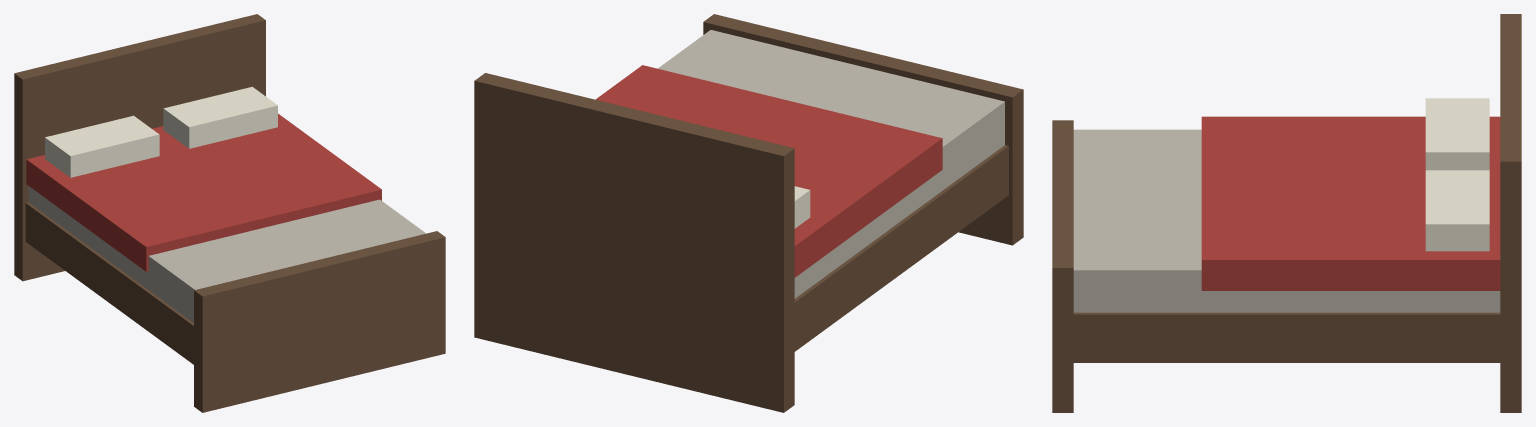
File: bed_old.glb
3 views of the same model, side by side, from view 1: azimuth 30°, elevation 25°; view 2: azimuth 150°, elevation 25°; view 3: azimuth 270°, elevation 25° (orthographic). The views are drawn at different scales.
Visible parts, largest first — view 1: bed_old; view 2: bed_old; view 3: bed_old.
Boxes of the visible parts, box(x1,y1,x2,y2) form: bed_old: box(14, 14, 445, 412); bed_old: box(474, 14, 1023, 412); bed_old: box(1052, 14, 1521, 412).
Bounding box in the file's own units: 1.64 × 1.3 × 2.2.
